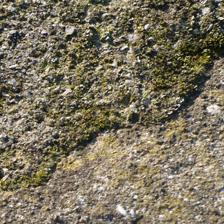Crack: (21, 30, 192, 160)
